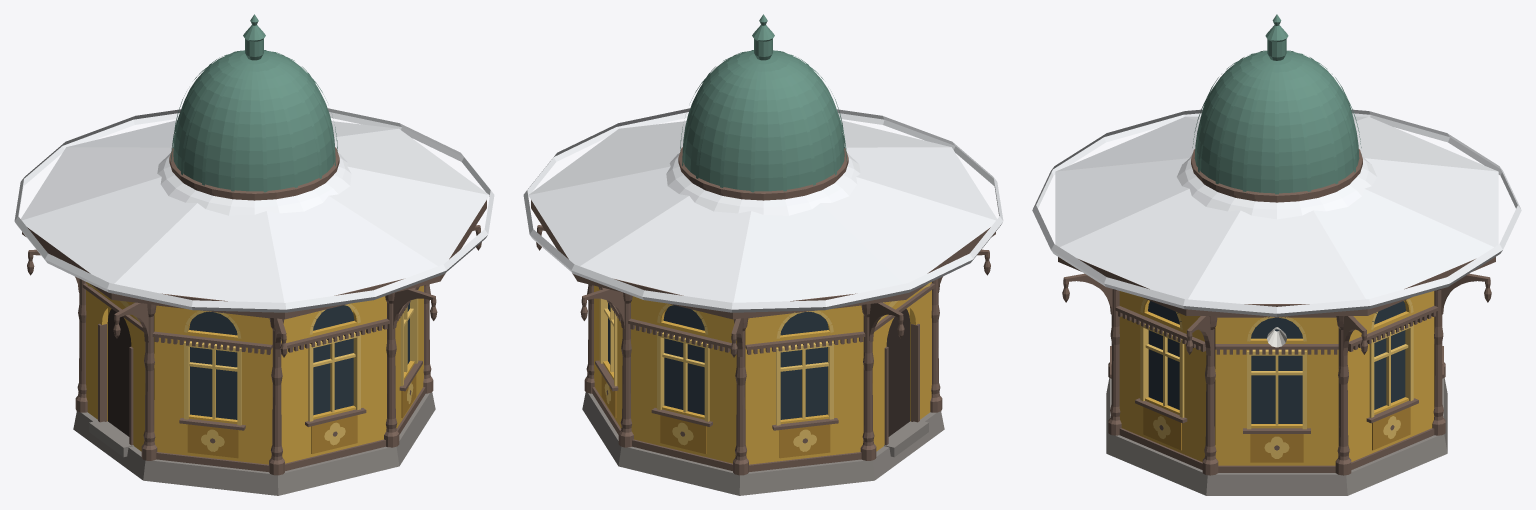
File: tophut.glb
3 views of the same model, side by side, from view 1: azimuth 30°, elevation 25°; view 2: azimuth 150°, elevation 25°; view 3: azimuth 270°, elevation 25° (orthographic).
Visible parts, largest first — view 1: top_hut; view 2: top_hut; view 3: top_hut.
Boxes of the visible parts, x1,y1,x2,y2 form: top_hut: [14, 14, 494, 495]; top_hut: [523, 14, 1003, 495]; top_hut: [1032, 14, 1521, 495].
Bounding box in the file's own units: 10.12 × 9.35 × 10.12.
